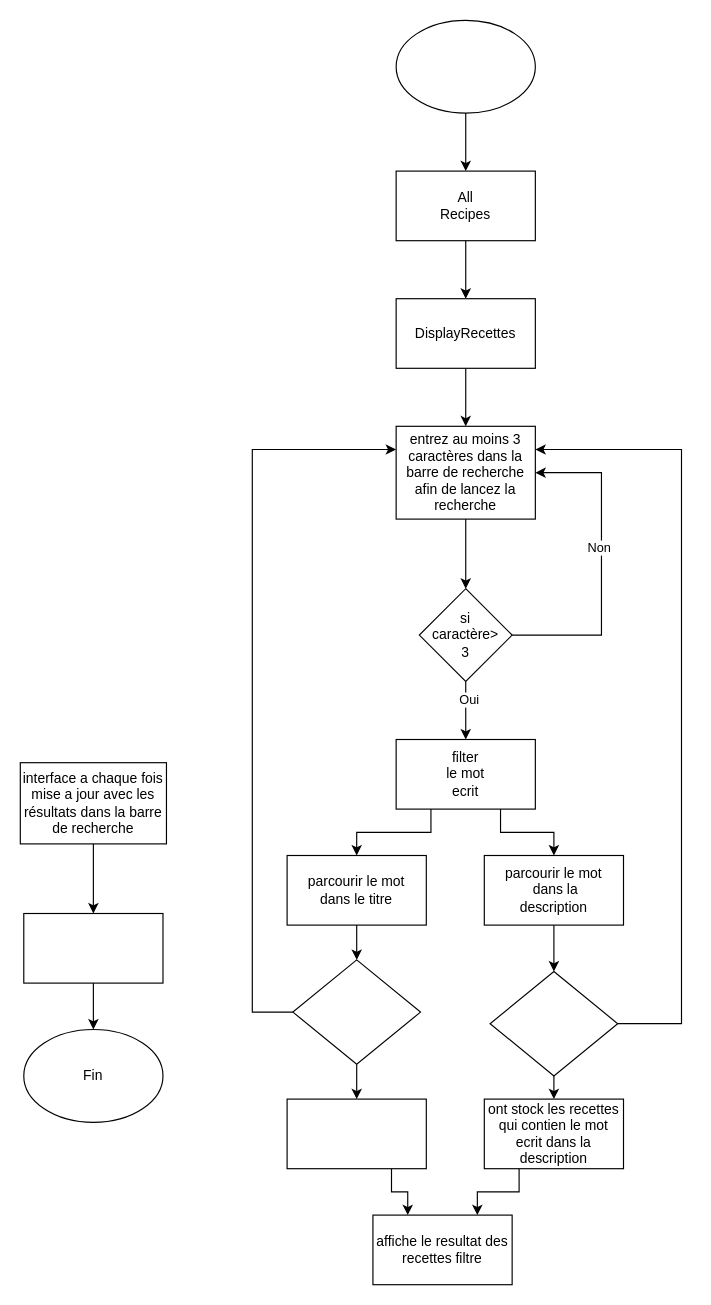
Some shapes in this 711 by 1305 pixel diagram are drawn without their labels. The shapes that lost their labels are listed below. From the top down, each one's centre as x and y in pixels, then its label:
At point 465,66: "debut".
At point 93,947: "voici la recettes".
At point 356,1011: "mot includ dans le titre".
At point 553,1023: "mot includ dans la descr...".
At point 356,1133: "ont stock les recettes qui contien le mot ecrit dans le titre".
